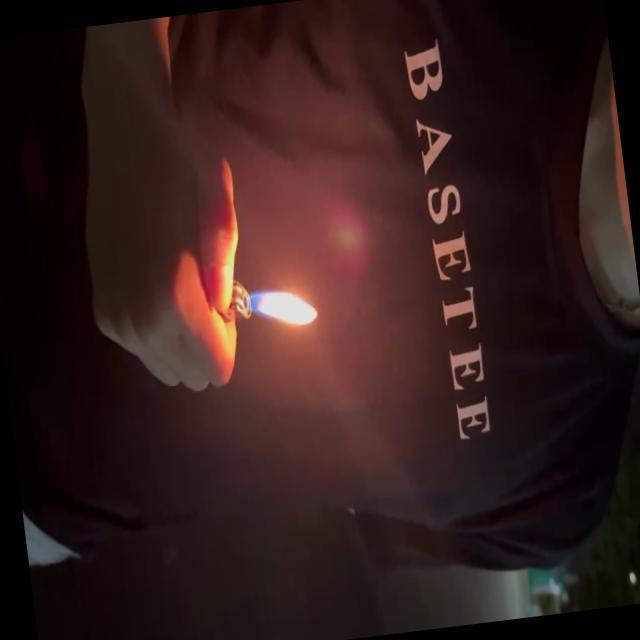Fire: (242, 277, 321, 339)
